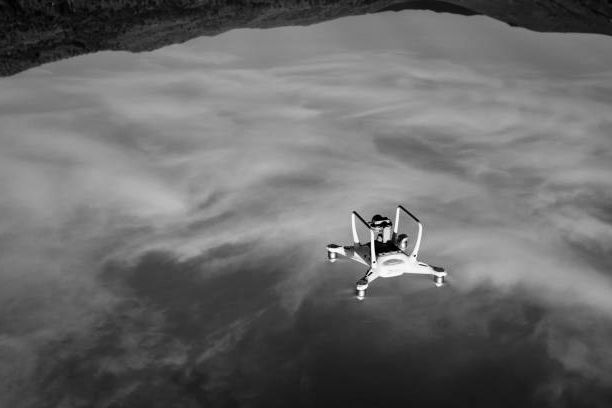Drone: (321, 200, 454, 304)
